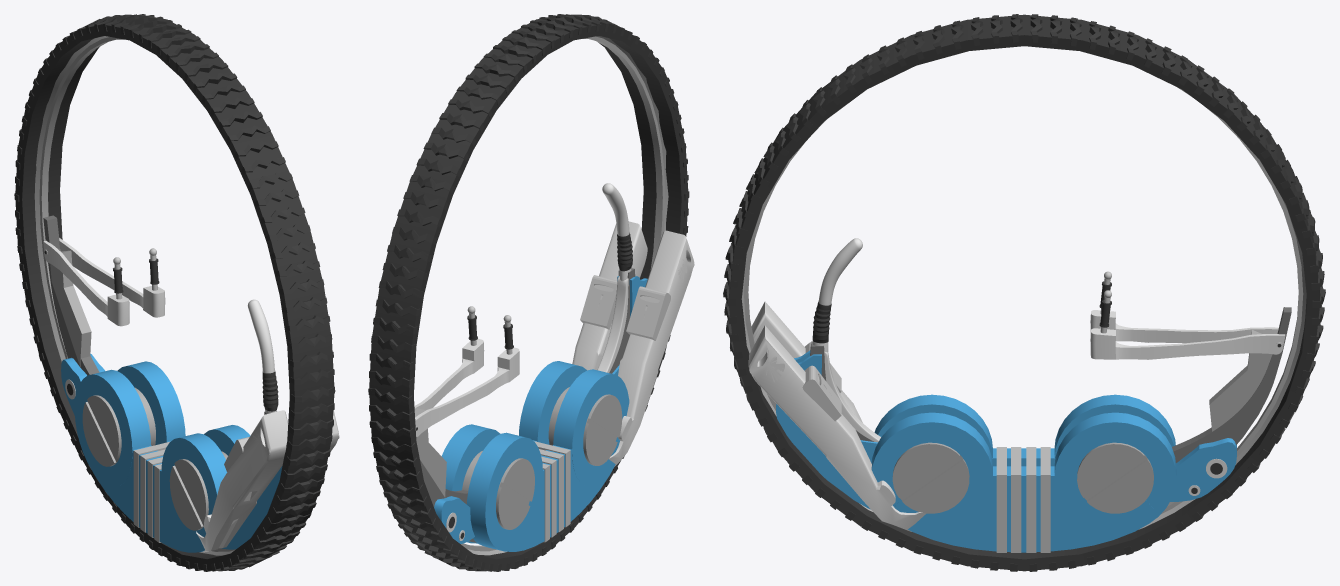
File: Monocickle.fbx
3 renders of one model, left to right at view 1: azimuth 30°, elevation 25°; view 2: azimuth 150°, elevation 25°; view 3: azimuth 270°, elevation 25°, orthographic. The views are drawn at different scales.
Visible parts, largest first — view 1: Circle.001, Cylinder.031, Cube.010, Circle, Cylinder.015, Cylinder.030, Cylinder.029, Cube.004, Cube.006, Cube.005, Circle.007, Cylinder.032 (+7 smaller); view 2: Circle.001, Cylinder.031, Cube.010, Cylinder.015, Circle, Cube.008, Cylinder.029, Cylinder.030, Cube.006, Cube.011, Cube.009, Cube.005 (+10 smaller); view 3: Circle.001, Cylinder.015, Cube.008, Cylinder.031, Cylinder.029, Circle, Cylinder.030, Cube.005, Circle.007, Cylinder.005, Cube.006, Cube.004 (+9 smaller).
Boxes of the visible parts, x1,y1,x2,y2 form: Circle.001: (14,14,335,571); Cylinder.031: (74,369,227,552); Cube.010: (196,410,288,552); Circle: (34,36,235,555); Cylinder.015: (117,361,250,455); Cylinder.030: (82,387,155,466); Cylinder.029: (169,451,227,530); Cube.004: (50,250,91,366); Cube.006: (43,240,129,326); Cube.005: (59,238,165,317); Circle.007: (43,215,276,414); Cylinder.032: (221,466,282,549); Circle.001: (368,14,689,571); Cylinder.031: (466,369,629,551); Cube.010: (609,230,694,466); Cylinder.015: (441,361,586,543); Circle: (461,36,668,555); Cube.008: (572,221,647,370); Cylinder.029: (548,387,622,465); Cylinder.030: (462,451,534,529); Cube.006: (415,347,519,436); Cube.011: (626,286,670,340); Cube.009: (580,275,617,329); Cube.005: (414,338,484,411); Circle.001: (723,14,1325,571); Cylinder.015: (871,412,1176,552); Cube.008: (748,325,925,531); Cylinder.031: (874,394,1175,466); Cylinder.029: (892,442,969,513); Circle: (741,88,1306,529); Cylinder.030: (1077,442,1153,513); Cube.005: (1090,328,1285,359); Circle.007: (810,307,1291,462); Cylinder.005: (1170,438,1236,501); Cube.006: (1090,310,1278,343); Cube.004: (1209,330,1272,431).
Bounding box in the file's own units: 66.86 × 454 × 454.
